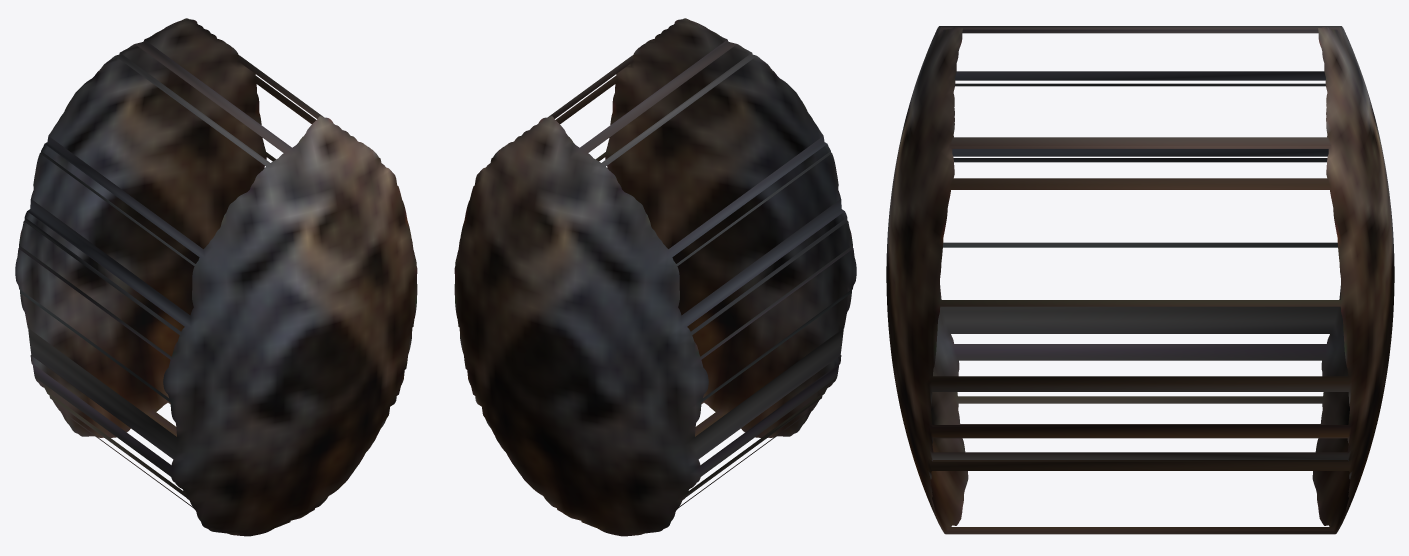
The picture shows the model from 3 angles, left to right: view 1: azimuth 30°, elevation 25°; view 2: azimuth 150°, elevation 25°; view 3: azimuth 270°, elevation 25°; orthographic projection. The views are drawn at different scales.
Visible parts, largest first — view 1: planets:0; view 2: planets:0; view 3: planets:0.
Part boxes in pixels (bbox=[...]): planets:0: bbox=[15, 18, 417, 536]; planets:0: bbox=[454, 18, 856, 536]; planets:0: bbox=[886, 26, 1394, 534].
Bounding box in the file's own units: 0.5214 × 0.7846 × 0.6599.
1 material, 1 textured.
